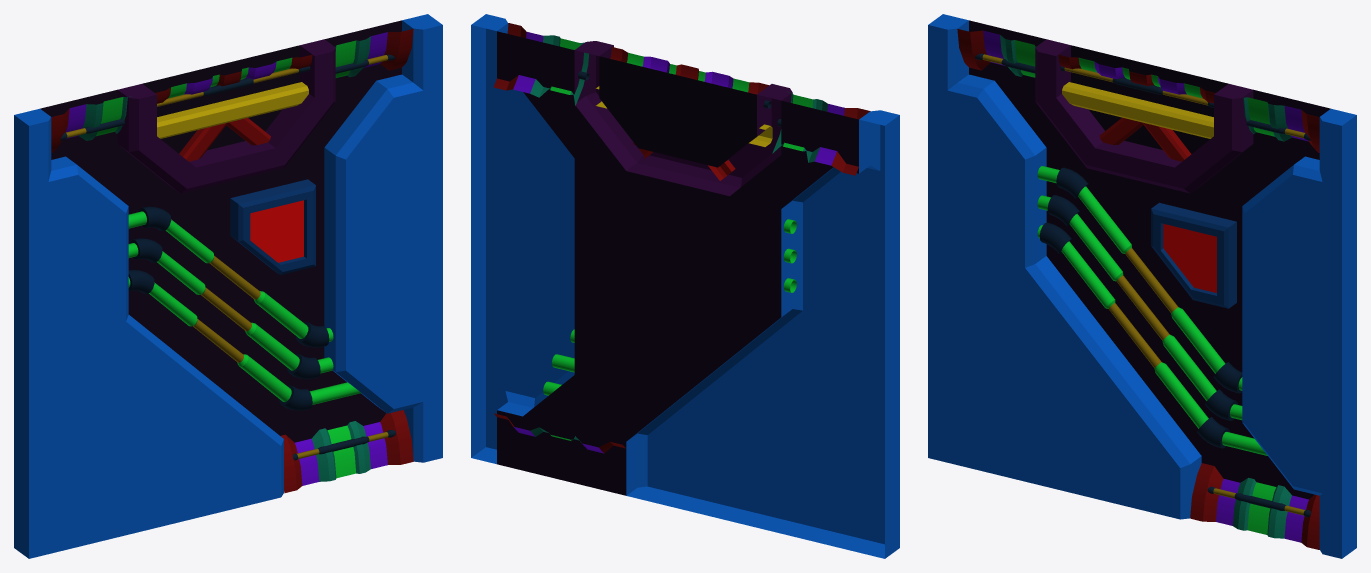
File: OBJ_5_Mur.fbx
3 views of the same model, side by side, from view 1: azimuth 30°, elevation 25°; view 2: azimuth 150°, elevation 25°; view 3: azimuth 330°, elevation 25° (orthographic).
Parts seen in each view (by area): view 1: OBJ_5_Mur; view 2: OBJ_5_Mur; view 3: OBJ_5_Mur.
Boxes of the visible parts, x1,y1,x2,y2 form: OBJ_5_Mur: (14,14,442,558); OBJ_5_Mur: (471,14,899,558); OBJ_5_Mur: (928,14,1356,558).
Bounding box in the file's own units: 16 × 16.06 × 1.39.
